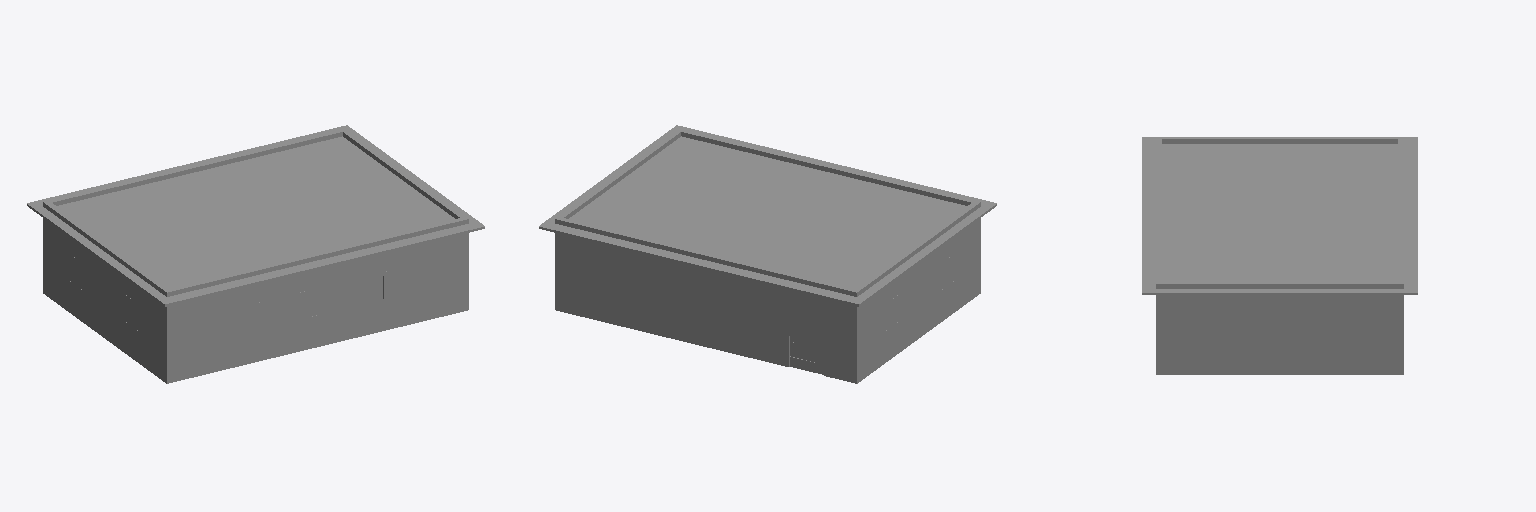
File: HOme.obj
3 renders of one model, left to right at view 1: azimuth 30°, elevation 25°; view 2: azimuth 150°, elevation 25°; view 3: azimuth 270°, elevation 25°, orthographic.
Visible parts, largest first — view 1: Casa_Cube, Cube.003_Cube.036, BaseJanela.003_Cube.014; view 2: Casa_Cube, Cube.003_Cube.036, Porta_Cube.002; view 3: Cube.003_Cube.036, Casa_Cube, BaseJanela.003_Cube.014.
Boxes of the visible parts, <box> form: Casa_Cube: <box>43,128,468,383</box>; Cube.003_Cube.036: <box>27,125,484,306</box>; BaseJanela.003_Cube.014: <box>68,253,386,339</box>; Casa_Cube: <box>555,128,980,383</box>; Cube.003_Cube.036: <box>539,125,996,306</box>; Porta_Cube.002: <box>790,337,823,374</box>; Cube.003_Cube.036: <box>1142,137,1417,294</box>; Casa_Cube: <box>1156,137,1403,374</box>; BaseJanela.003_Cube.014: <box>1208,316,1352,346</box>.
Size of the model in its own units: 11.03 by 3 by 8.24.